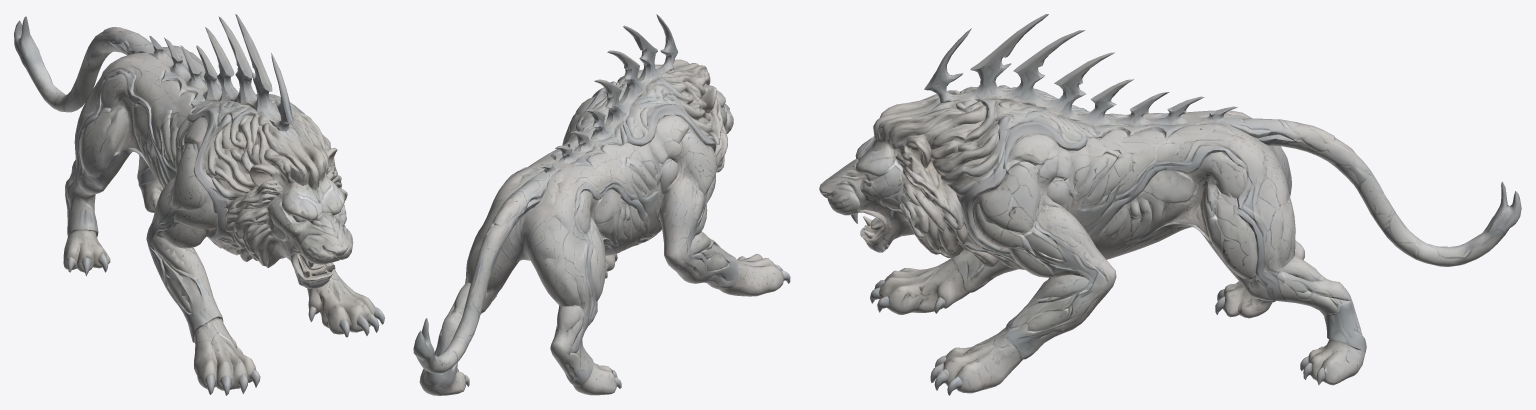
The model's file is pouncer.glb.
3 views of the same model, side by side, from view 1: azimuth 30°, elevation 25°; view 2: azimuth 150°, elevation 25°; view 3: azimuth 270°, elevation 25° (orthographic). The views are drawn at different scales.
Parts seen in each view (by area): view 1: Mesh; view 2: Mesh; view 3: Mesh.
Boxes of the visible parts, bbox=[...] form: Mesh: bbox=[14, 14, 384, 395]; Mesh: bbox=[413, 14, 790, 395]; Mesh: bbox=[819, 14, 1521, 395].
Size of the model in its own units: 0.6969 by 0.9881 by 1.9.
Materials: 1 (1 with a texture image).
